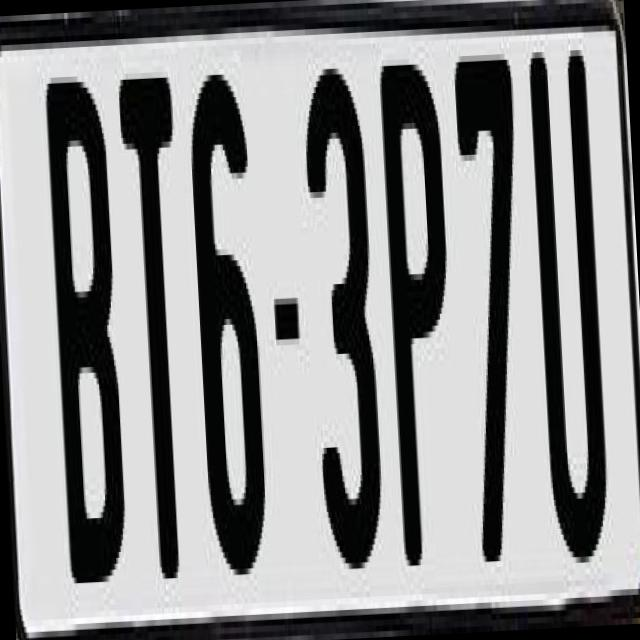3: (296, 56, 384, 588)
6: (184, 67, 276, 588)
7: (449, 54, 535, 568)
B: (42, 63, 136, 602)
P: (374, 64, 464, 578)
T: (114, 65, 200, 586)
U: (528, 39, 618, 588)
